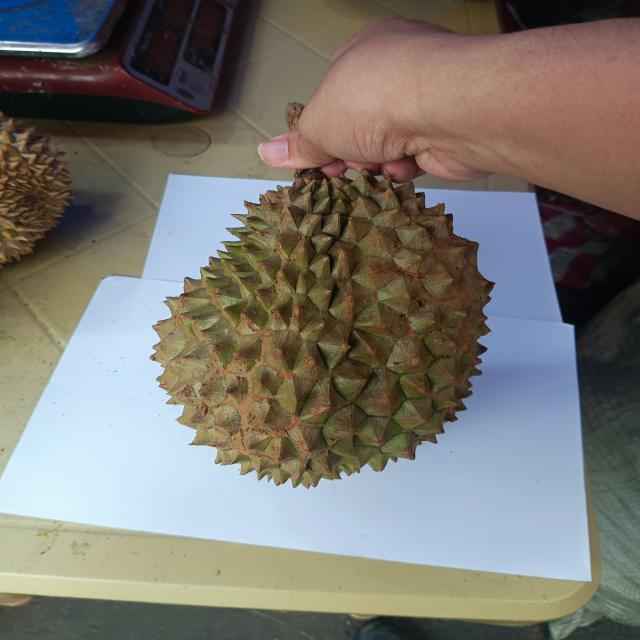mature: (148, 157, 492, 488)
